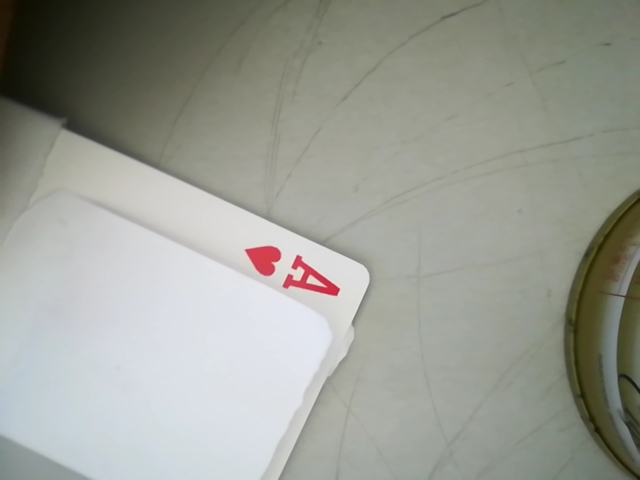hx a: (240, 237, 361, 304)
